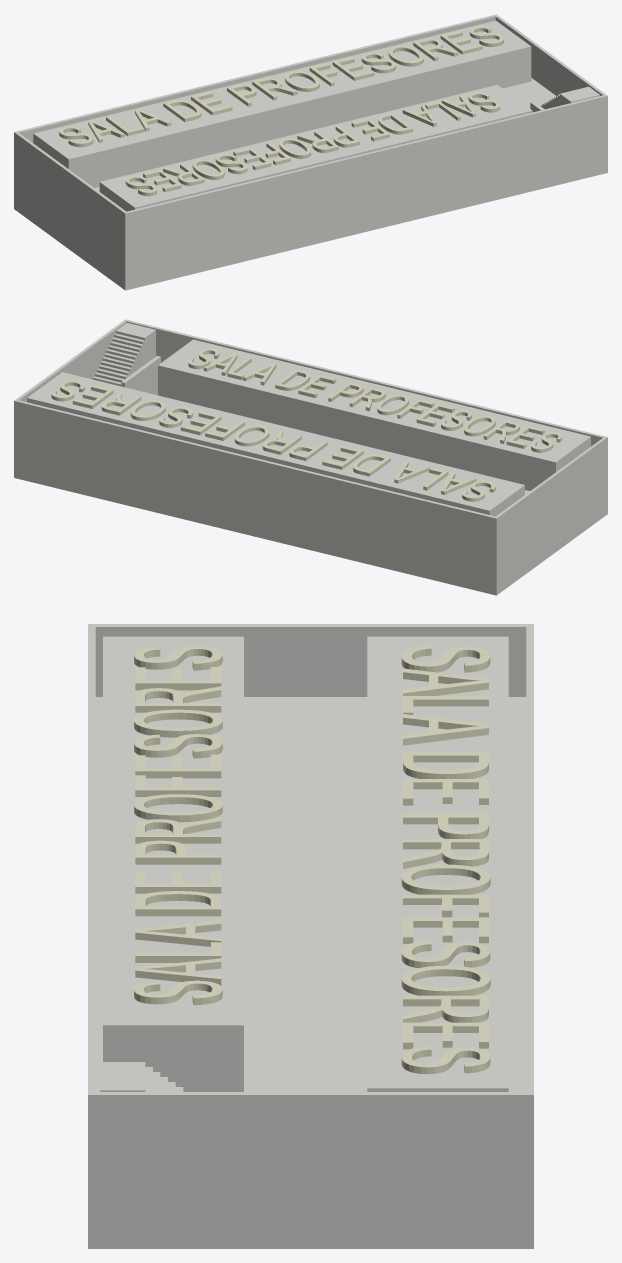
File: Edificio G - Piso 2.obj
3 renders of one model, top to bottom at view 1: azimuth 30°, elevation 25°; view 2: azimuth 150°, elevation 25°; view 3: azimuth 270°, elevation 25°, orthographic. The views are drawn at different scales.
Parts seen in each view (by area): view 1: G_P2_Base_Profunda, G_P2_Sala_Profesores_2, G_P2_Borde_Sur, G_P2_Sala_Profesores_1, G_P2_Texto_Sala_Profesores_2, G_P2_Texto_Sala_Profesores_1, G_P2_Borde_Norte, G_P2_Borde_Oeste_Norte, G_P2_Borde_Este, G_P2_Borde_Oeste_Sur; view 2: G_P2_Base_Profunda, G_P2_Sala_Profesores_1, G_P2_Borde_Norte, G_P2_Sala_Profesores_2, G_P2_Texto_Sala_Profesores_2, G_P2_Texto_Sala_Profesores_1, G_P2_Borde_Oeste_Norte, G_P2_Borde_Sur, G_P2_Escalera_Subida, G_P2_Borde_Este, G_P2_Borde_Oeste_Sur, G_P2_Escalera_Muro_Central (+1 smaller); view 3: G_P2_Base_Profunda, G_P2_Sala_Profesores_1, G_P2_Sala_Profesores_2, G_P2_Borde_Este, G_P2_Texto_Sala_Profesores_2, G_P2_Texto_Sala_Profesores_1, G_P2_Borde_Oeste_Norte, G_P2_Borde_Norte, G_P2_Borde_Sur, G_P2_Borde_Oeste_Sur, G_P2_Descanso_Superior, G_P2_Escalera_Subida.
Part boxes in pixels (left/top/right/bottom): G_P2_Base_Profunda: left=14, top=78, right=607, bottom=290; G_P2_Sala_Profesores_2: left=33, top=20, right=531, bottom=187; G_P2_Borde_Sur: left=123, top=94, right=607, bottom=248; G_P2_Sala_Profesores_1: left=99, top=85, right=532, bottom=211; G_P2_Texto_Sala_Profesores_2: left=59, top=26, right=503, bottom=147; G_P2_Texto_Sala_Profesores_1: left=125, top=92, right=499, bottom=196; G_P2_Borde_Norte: left=14, top=14, right=497, bottom=168; G_P2_Borde_Oeste_Norte: left=16, top=132, right=91, bottom=222; G_P2_Borde_Este: left=495, top=15, right=605, bottom=95; G_P2_Borde_Oeste_Sur: left=89, top=186, right=125, bottom=246; G_P2_Base_Profunda: left=14, top=436, right=607, bottom=595; G_P2_Sala_Profesores_1: left=158, top=339, right=590, bottom=490; G_P2_Borde_Norte: left=14, top=399, right=498, bottom=553; G_P2_Sala_Profesores_2: left=27, top=372, right=524, bottom=516; G_P2_Texto_Sala_Profesores_2: left=51, top=380, right=495, bottom=501; G_P2_Texto_Sala_Profesores_1: left=188, top=348, right=561, bottom=452; G_P2_Borde_Oeste_Norte: left=496, top=462, right=571, bottom=551; G_P2_Borde_Sur: left=124, top=319, right=607, bottom=473; G_P2_Escalera_Subida: left=93, top=329, right=146, bottom=386; G_P2_Borde_Este: left=16, top=320, right=126, bottom=401; G_P2_Borde_Oeste_Sur: left=569, top=437, right=605, bottom=497; G_P2_Escalera_Muro_Central: left=121, top=356, right=160, bottom=395; G_P2_Base_Profunda: left=88, top=697, right=533, bottom=1248; G_P2_Sala_Profesores_1: left=103, top=636, right=243, bottom=1091; G_P2_Sala_Profesores_2: left=367, top=636, right=508, bottom=1091; G_P2_Borde_Este: left=95, top=1092, right=526, bottom=1164; G_P2_Texto_Sala_Profesores_2: left=401, top=645, right=490, bottom=1074; G_P2_Texto_Sala_Profesores_1: left=134, top=646, right=222, bottom=1005; G_P2_Borde_Oeste_Norte: left=231, top=624, right=526, bottom=696; G_P2_Borde_Norte: left=526, top=624, right=533, bottom=1164; G_P2_Borde_Sur: left=88, top=624, right=95, bottom=1164; G_P2_Borde_Oeste_Sur: left=95, top=624, right=231, bottom=696; G_P2_Descanso_Superior: left=100, top=1062, right=137, bottom=1091; G_P2_Escalera_Subida: left=137, top=1062, right=183, bottom=1091.
Size of the model in its own units: 3240 by 516 by 1296.
